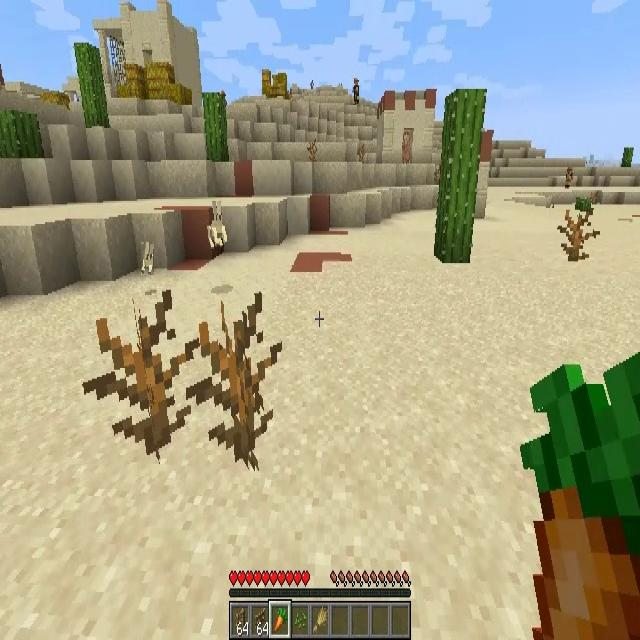people: (352, 79, 359, 104)
rabbit: (204, 199, 226, 249), (141, 244, 154, 275)
